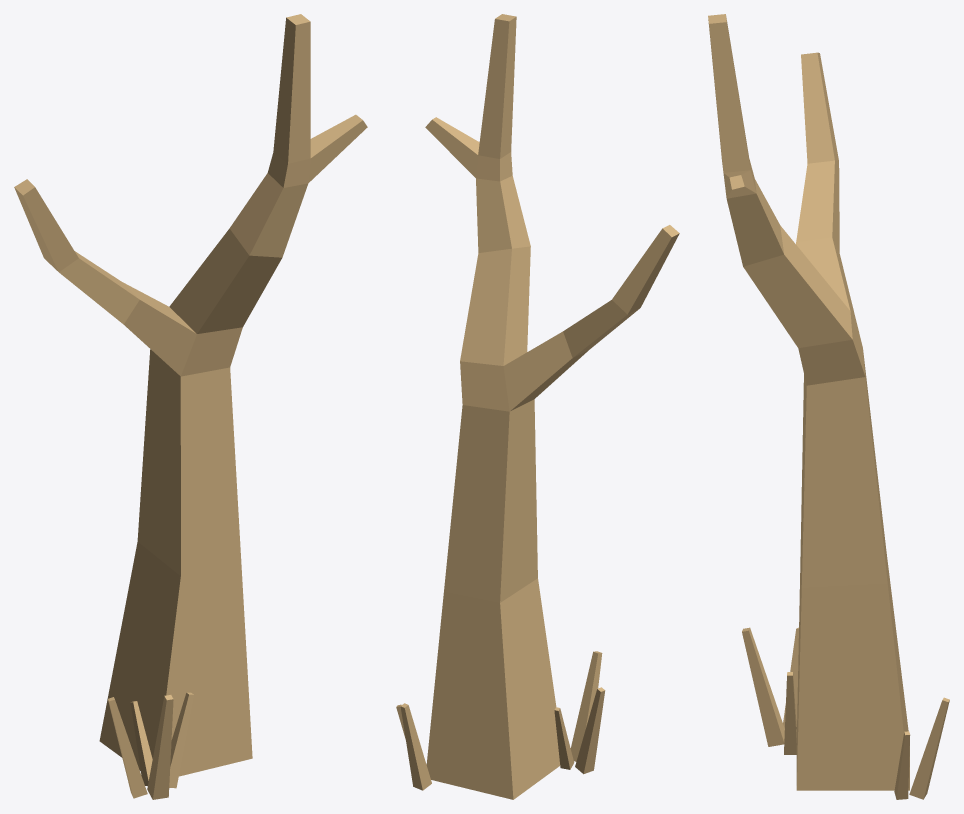
Rendered from Mega_Asset_s_Pack_Cube_144.FBX.
The picture shows the model from 3 angles, left to right: view 1: azimuth 30°, elevation 25°; view 2: azimuth 150°, elevation 25°; view 3: azimuth 270°, elevation 25°; orthographic projection. The views are drawn at different scales.
Parts seen in each view (by area): view 1: Mega_Asset_s_Pack_Cube_144; view 2: Mega_Asset_s_Pack_Cube_144; view 3: Mega_Asset_s_Pack_Cube_144.
Part boxes in pixels (x1,y1,x2,y2): Mega_Asset_s_Pack_Cube_144: (14, 14, 367, 799); Mega_Asset_s_Pack_Cube_144: (396, 14, 679, 799); Mega_Asset_s_Pack_Cube_144: (708, 14, 949, 799).
Size of what is drawn, in the model's own units: 292 by 195 by 696.
